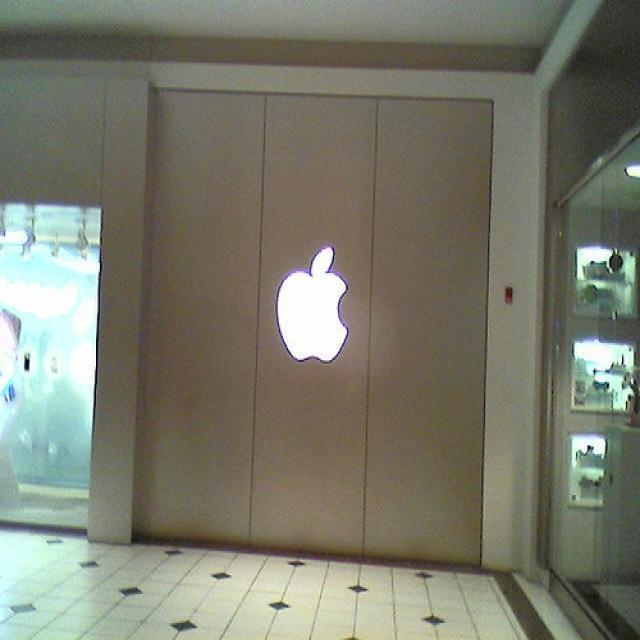apple: (268, 235, 355, 368)
